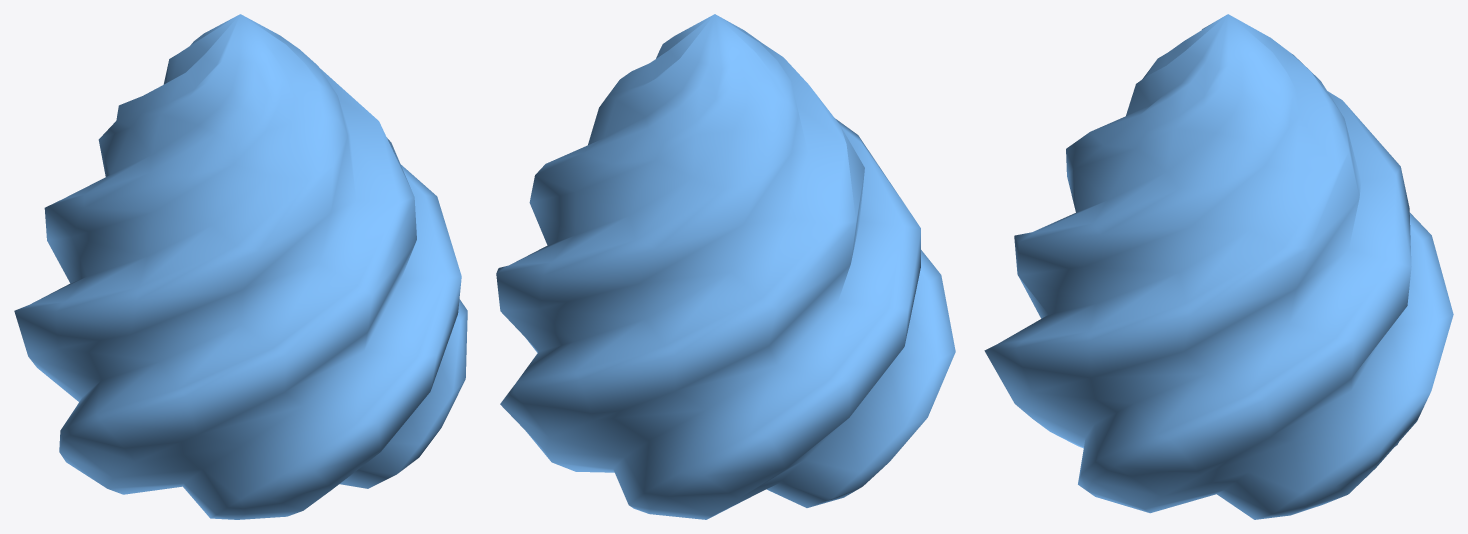
The model's file is Ice Cream Spiral C Blue.fbx.
The picture shows the model from 3 angles, left to right: view 1: azimuth 30°, elevation 25°; view 2: azimuth 150°, elevation 25°; view 3: azimuth 270°, elevation 25°; orthographic projection.
Parts seen in each view (by area): view 1: Ice Cream Spiral C Blue; view 2: Ice Cream Spiral C Blue; view 3: Ice Cream Spiral C Blue.
Boxes of the visible parts, x1,y1,x2,y2 form: Ice Cream Spiral C Blue: [14, 14, 467, 519]; Ice Cream Spiral C Blue: [496, 14, 955, 519]; Ice Cream Spiral C Blue: [984, 14, 1453, 519].
Size of the model in its own units: 0.4215 by 0.4617 by 0.4308.
